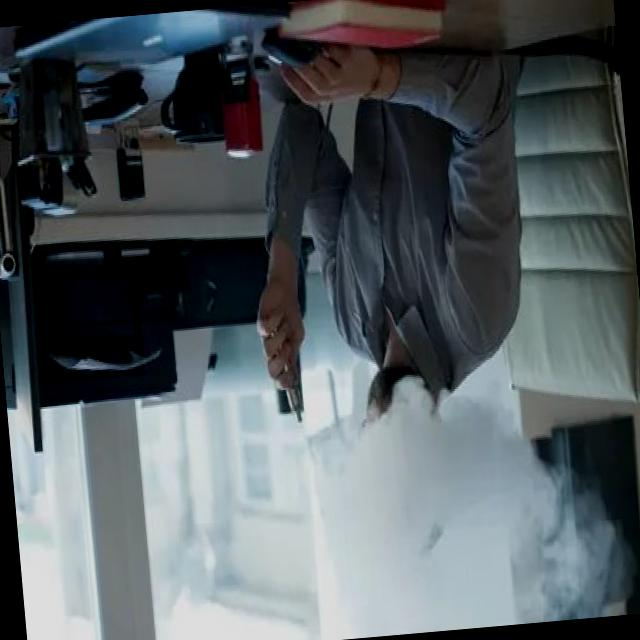smoke: (263, 312, 307, 434)
